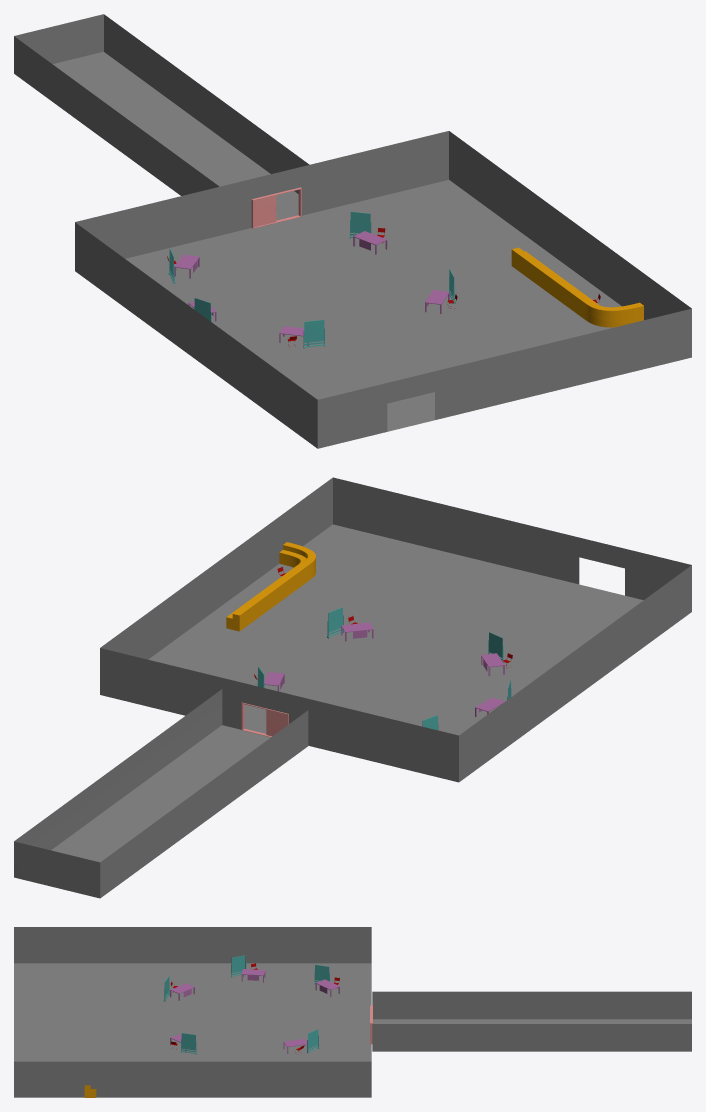
File: Greybox_V2.fbx
The picture shows the model from 3 angles, top to bottom: view 1: azimuth 30°, elevation 25°; view 2: azimuth 150°, elevation 25°; view 3: azimuth 270°, elevation 25°; orthographic projection. The views are drawn at different scales.
Visible parts, largest first — view 1: Hall_Walls, Corridor, Reception_CUrved; view 2: Hall_Walls, Corridor, Reception_CUrved; view 3: Hall_Walls, Corridor.
Boxes of the visible parts, bbox=[...] form: Hall_Walls: bbox=[75, 131, 691, 448]; Corridor: bbox=[14, 14, 309, 220]; Reception_CUrved: bbox=[511, 247, 643, 327]; Hall_Walls: bbox=[100, 477, 691, 782]; Corridor: bbox=[14, 689, 308, 898]; Reception_CUrved: bbox=[226, 542, 315, 631]; Hall_Walls: bbox=[14, 927, 371, 1097]; Corridor: bbox=[372, 991, 691, 1051].
Size of the model in its own units: 104 by 13.08 by 222.
